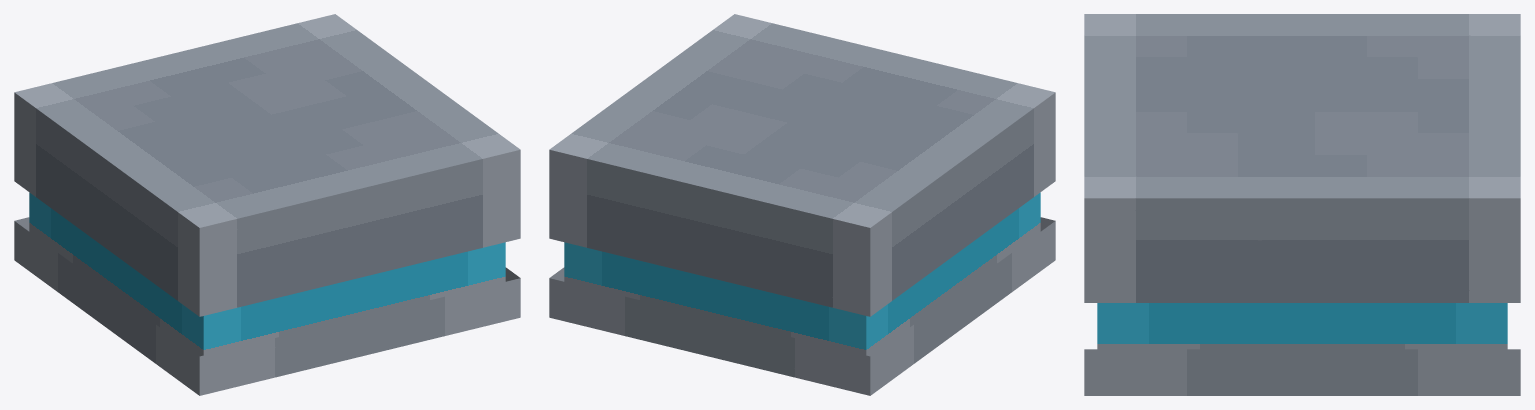
Rendered from _Small Light Blue Pod Top.glb.
3 renders of one model, left to right at view 1: azimuth 30°, elevation 25°; view 2: azimuth 150°, elevation 25°; view 3: azimuth 270°, elevation 25°, orthographic. The views are drawn at different scales.
Visible parts, largest first — view 1: cube; view 2: cube; view 3: cube.
Boxes of the visible parts, x1,y1,x2,y2 form: cube: [14, 14, 520, 395]; cube: [549, 14, 1055, 395]; cube: [1084, 14, 1520, 395].
Size of the model in its own units: 1.06 by 0.5312 by 1.06.
Materials: 1 (1 with a texture image).
